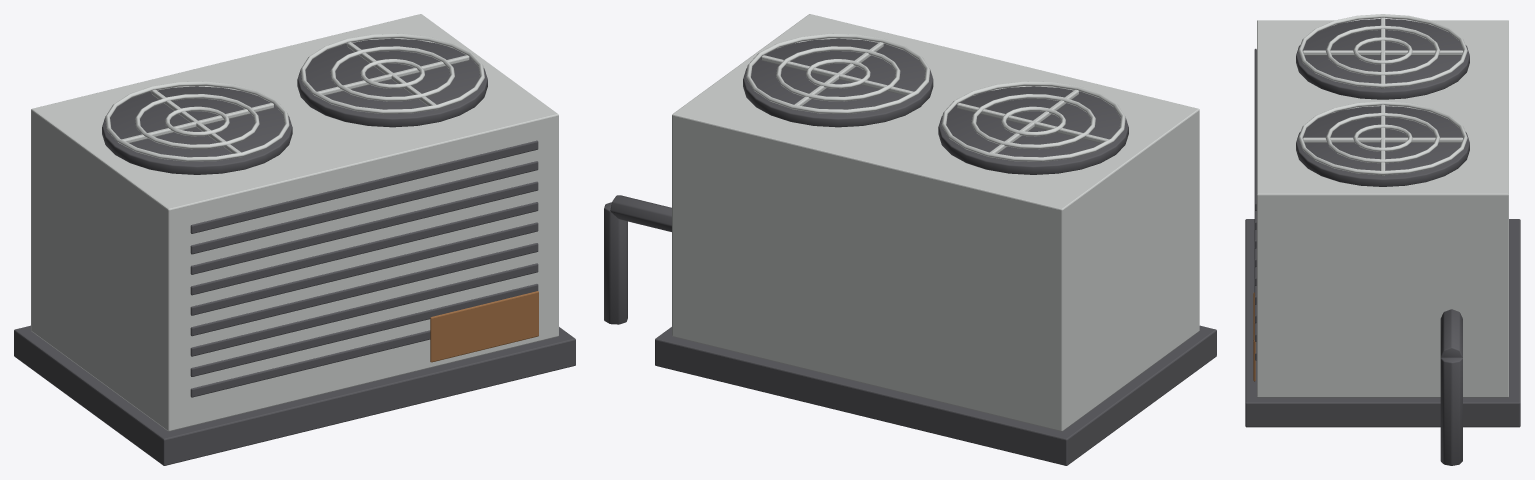
The model's file is ac_unit.glb.
The picture shows the model from 3 angles, left to right: view 1: azimuth 30°, elevation 25°; view 2: azimuth 150°, elevation 25°; view 3: azimuth 270°, elevation 25°; orthographic projection. The views are drawn at different scales.
Parts seen in each view (by area): view 1: ac_unit; view 2: ac_unit; view 3: ac_unit.
Boxes of the visible parts, x1=… form: ac_unit: x1=14, y1=14, x2=575, y2=465; ac_unit: x1=604, y1=14, x2=1216, y2=465; ac_unit: x1=1245, y1=14, x2=1520, y2=465.
Bounding box in the file's own units: 2.3 × 1.17 × 1.2.
